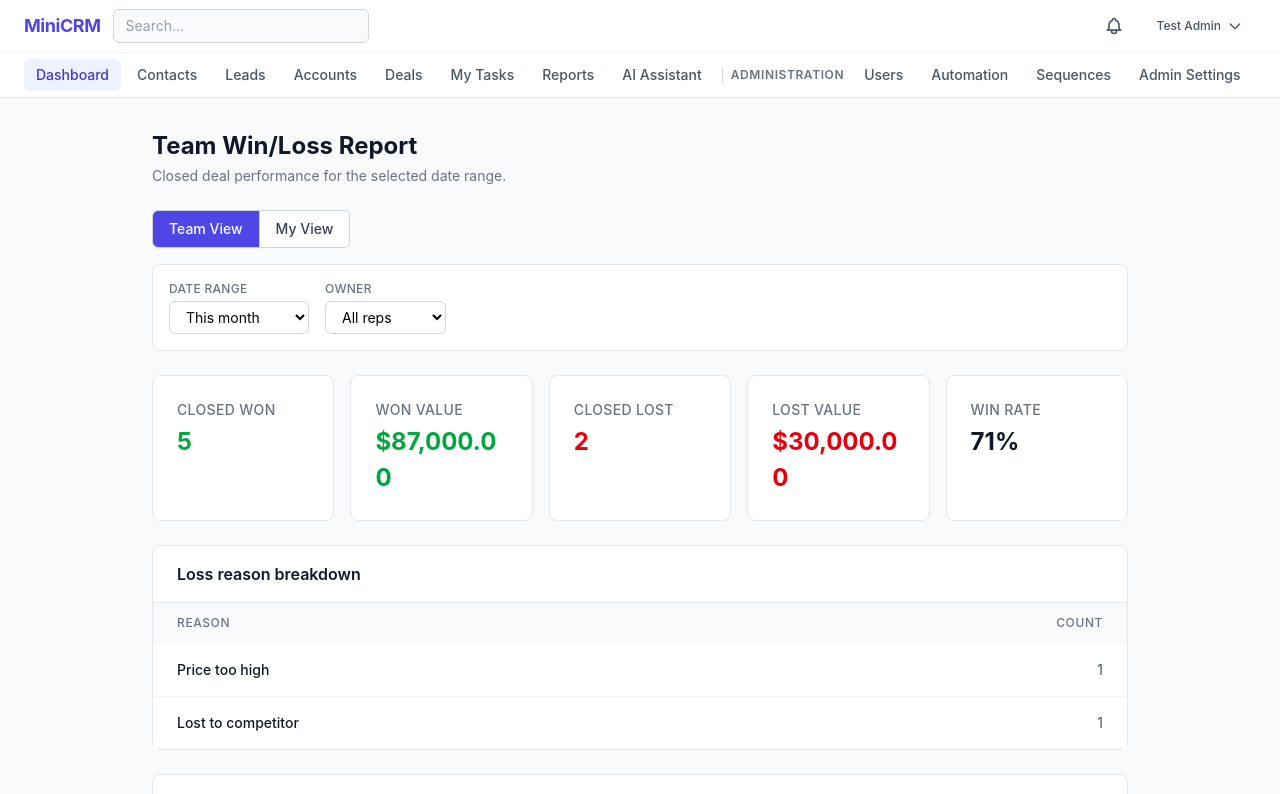
Scenario: WinLossReportPage › view mode toggle › heading changes to My Win/Loss Report when admin switches to My View
The image size is (1280, 794).
Click the button with test id "view-mode-my" at coordinates (304, 229), box [259,211,349,247]
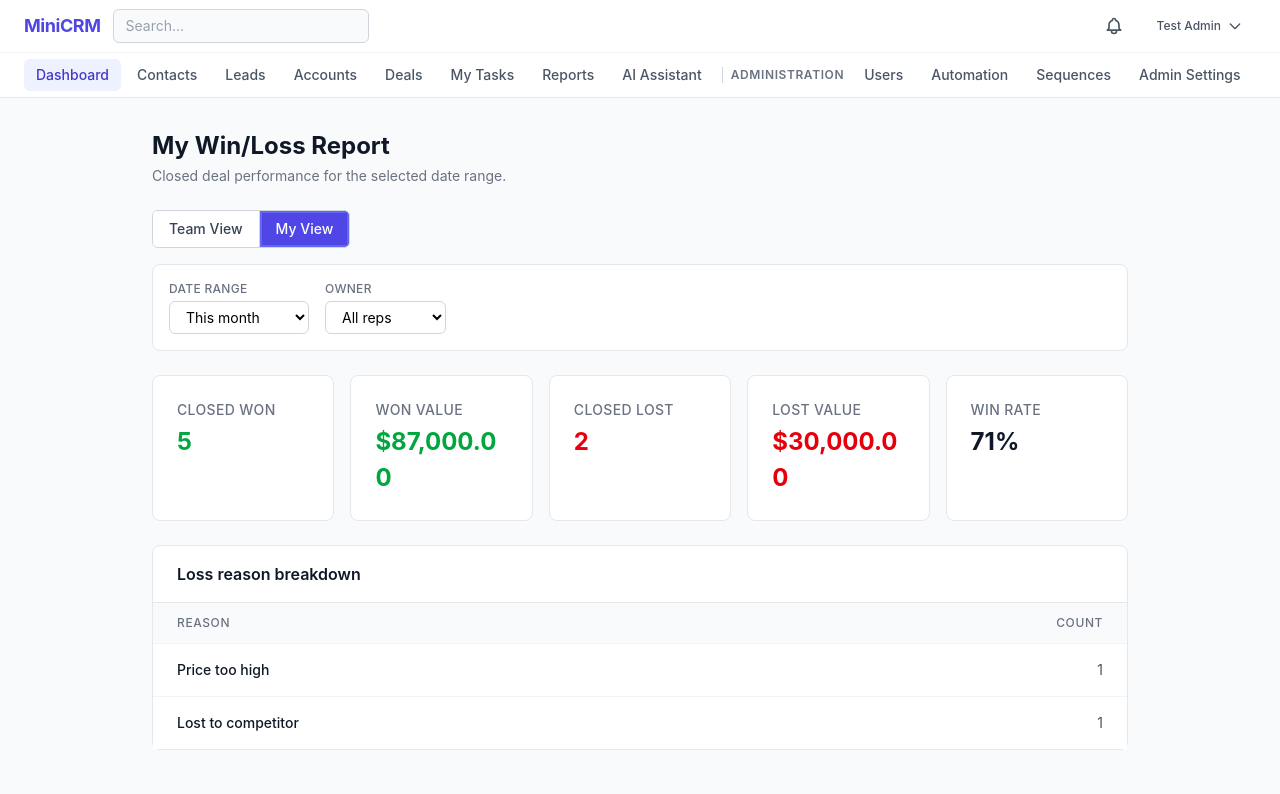
Result: the heading with test id "win-loss-report-heading" reads "My Win/Loss Report" at [152,131,390,160]
